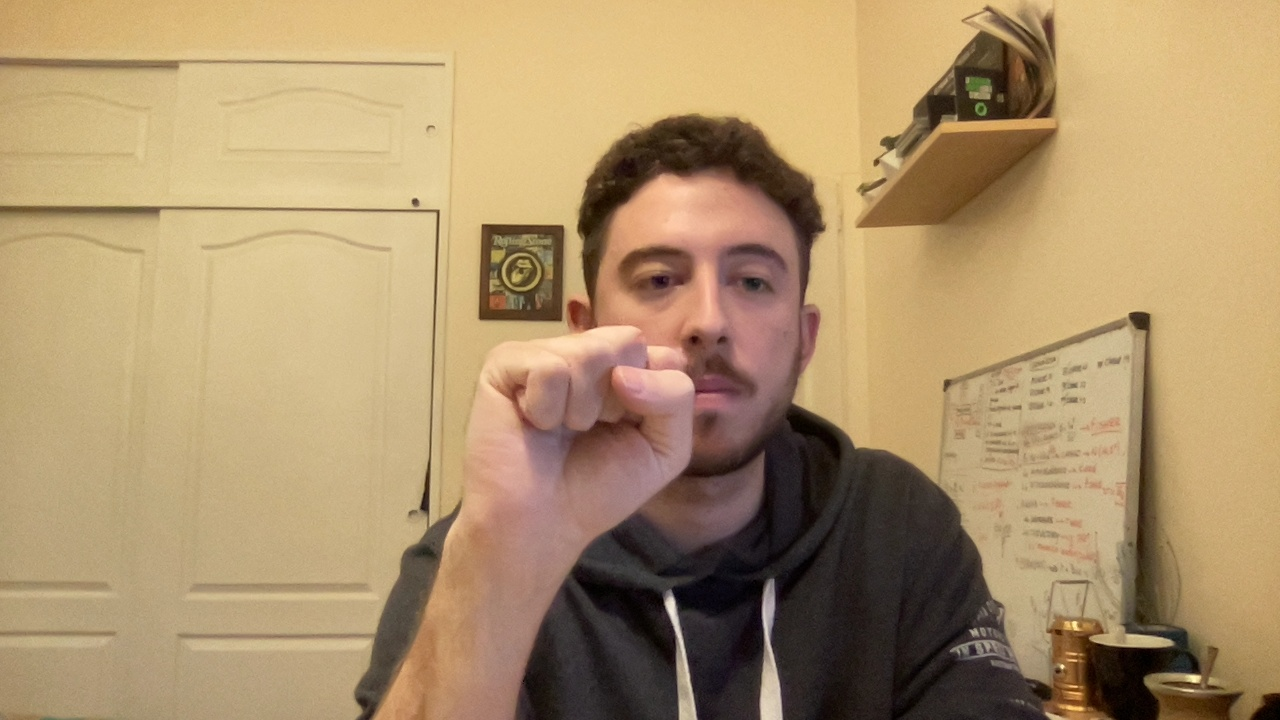cerrado: (439, 321, 707, 551)
